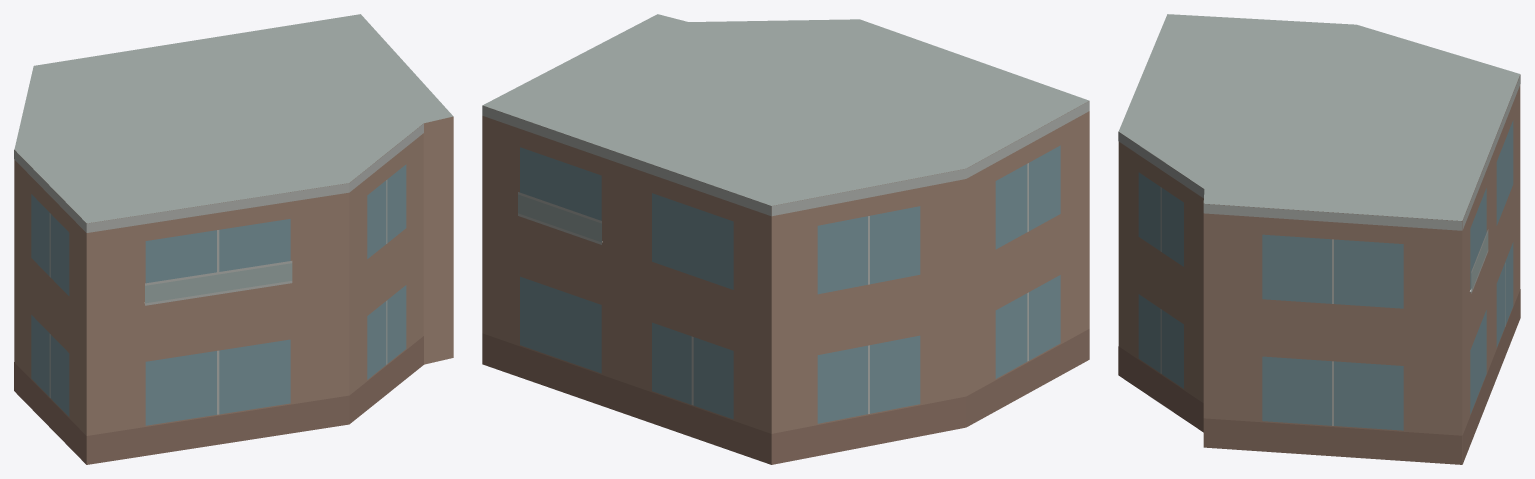
Rendered from survey-upis-32661739.glb.
3 renders of one model, left to right at view 1: azimuth 30°, elevation 25°; view 2: azimuth 150°, elevation 25°; view 3: azimuth 270°, elevation 25°, orthographic. The views are drawn at different scales.
Visible parts, largest first — view 1: survey-upis-32661739.tmp; view 2: survey-upis-32661739.tmp; view 3: survey-upis-32661739.tmp.
Part boxes in pixels (box(x1,y1,x2,y2)): survey-upis-32661739.tmp: box(14, 14, 453, 464); survey-upis-32661739.tmp: box(482, 14, 1089, 464); survey-upis-32661739.tmp: box(1118, 14, 1520, 464).
Size of the model in its own units: 11.12 by 6.1 by 9.13.
